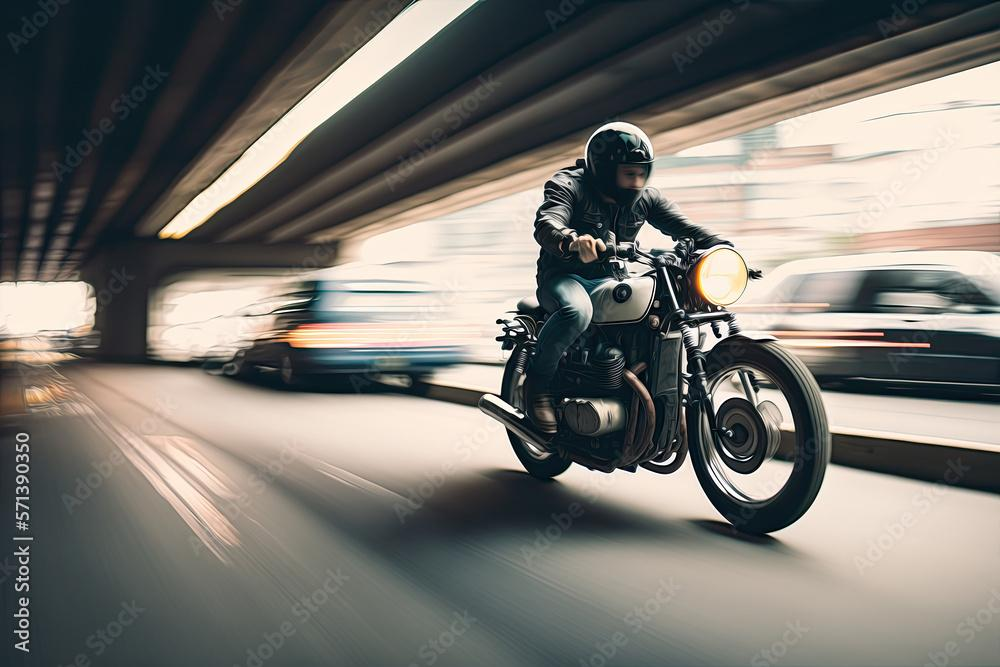helmet: (584, 121, 656, 208)
